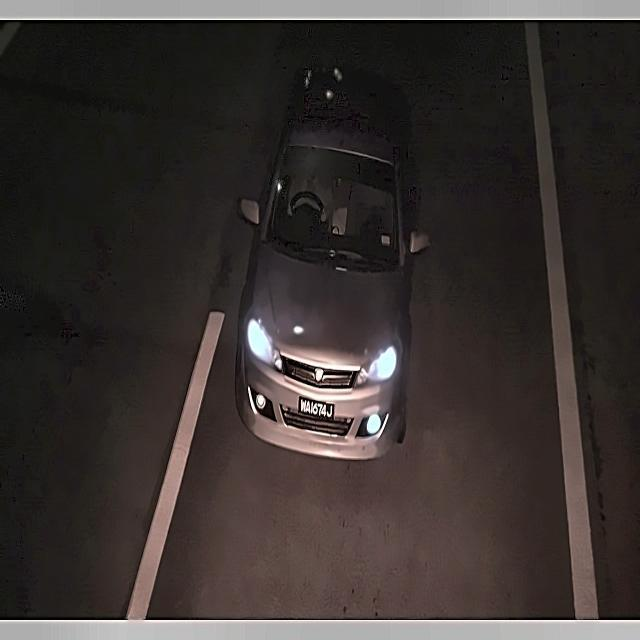car: (294, 390, 338, 426)
